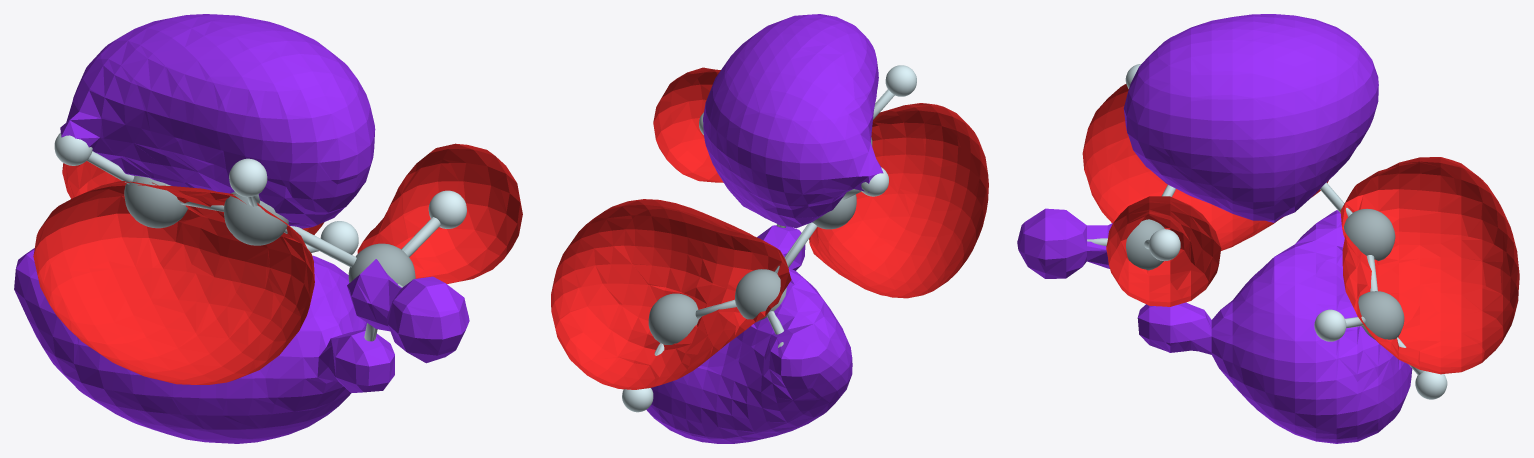
3 views of the same model, side by side, from view 1: azimuth 30°, elevation 25°; view 2: azimuth 150°, elevation 25°; view 3: azimuth 270°, elevation 25° (orthographic). The views are drawn at different scales.
Visible parts, largest first — view 1: Renderer Node; view 2: Renderer Node; view 3: Renderer Node.
Part boxes in pixels (x1,y1,x2,y2): Renderer Node: (14, 14, 522, 443); Renderer Node: (551, 14, 988, 443); Renderer Node: (1017, 14, 1519, 443).
Bounding box in the file's own units: 4.97 × 5.26 × 6.25.
